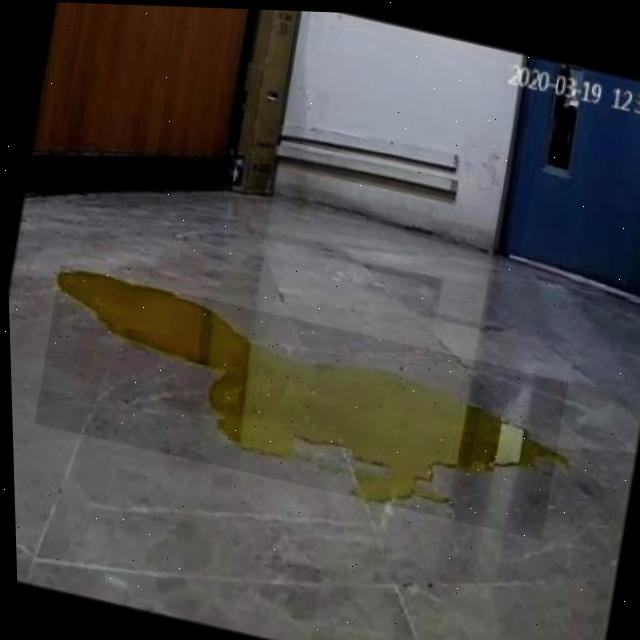spillage: (56, 272, 552, 500)
